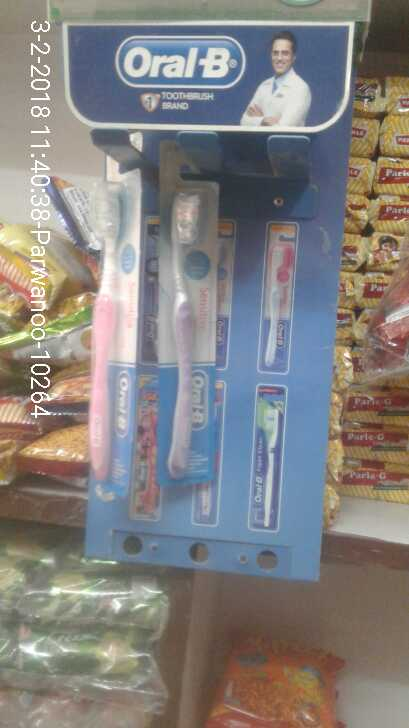oralb: (81, 166, 146, 493), (155, 170, 217, 487)
